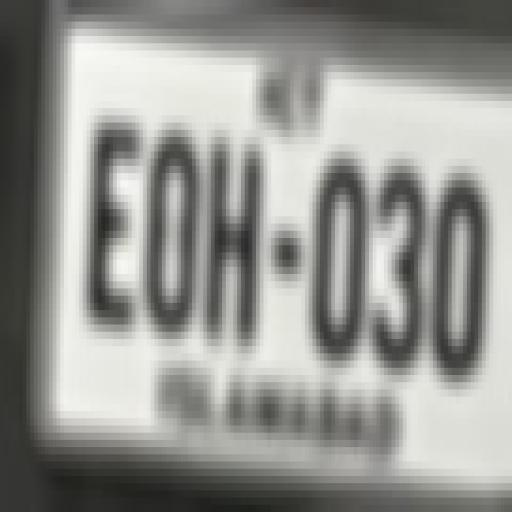0: (428, 172, 491, 400), (320, 156, 360, 368)
3: (372, 173, 425, 378)
E: (90, 126, 138, 328)
H: (209, 135, 266, 341)
O: (147, 132, 196, 328)
